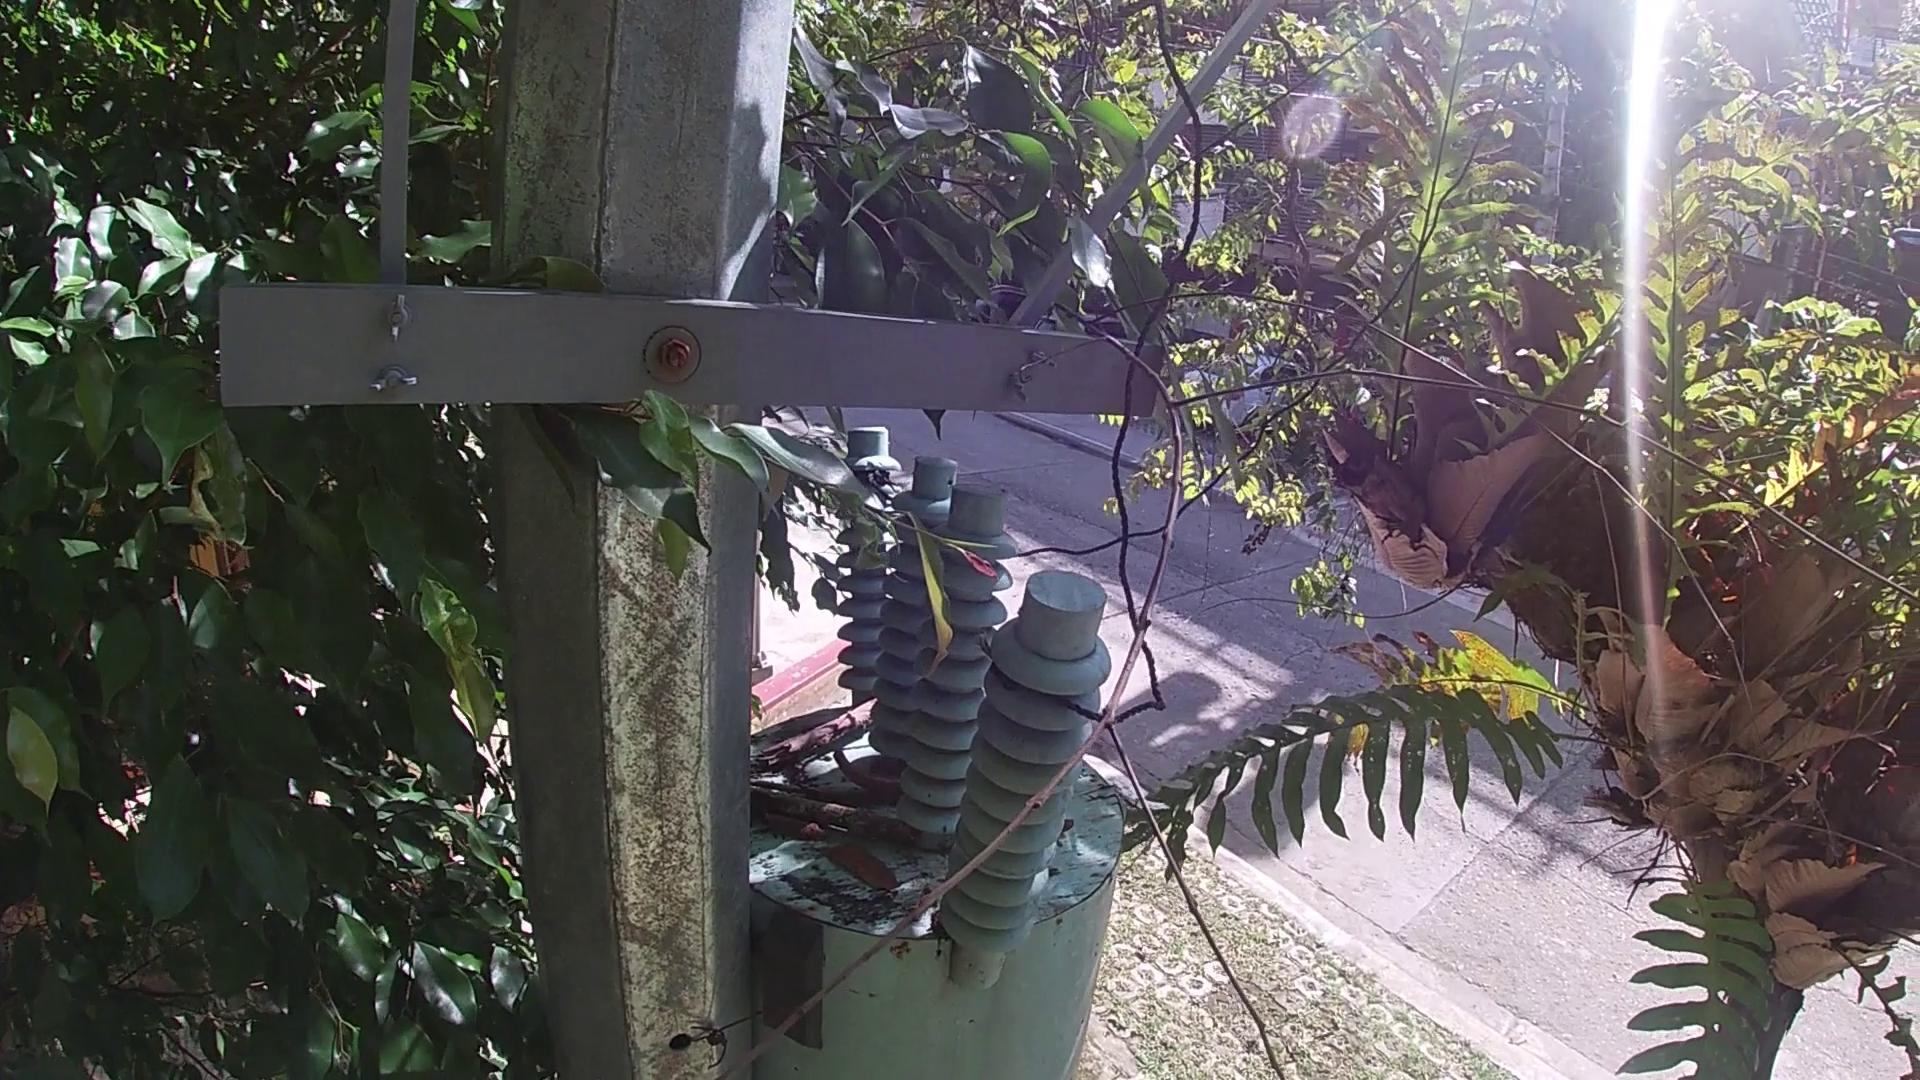leaf: (814, 839, 903, 898), (760, 808, 831, 844)
tree branch: (711, 282, 1920, 1077), (749, 783, 922, 855), (754, 694, 878, 775)
